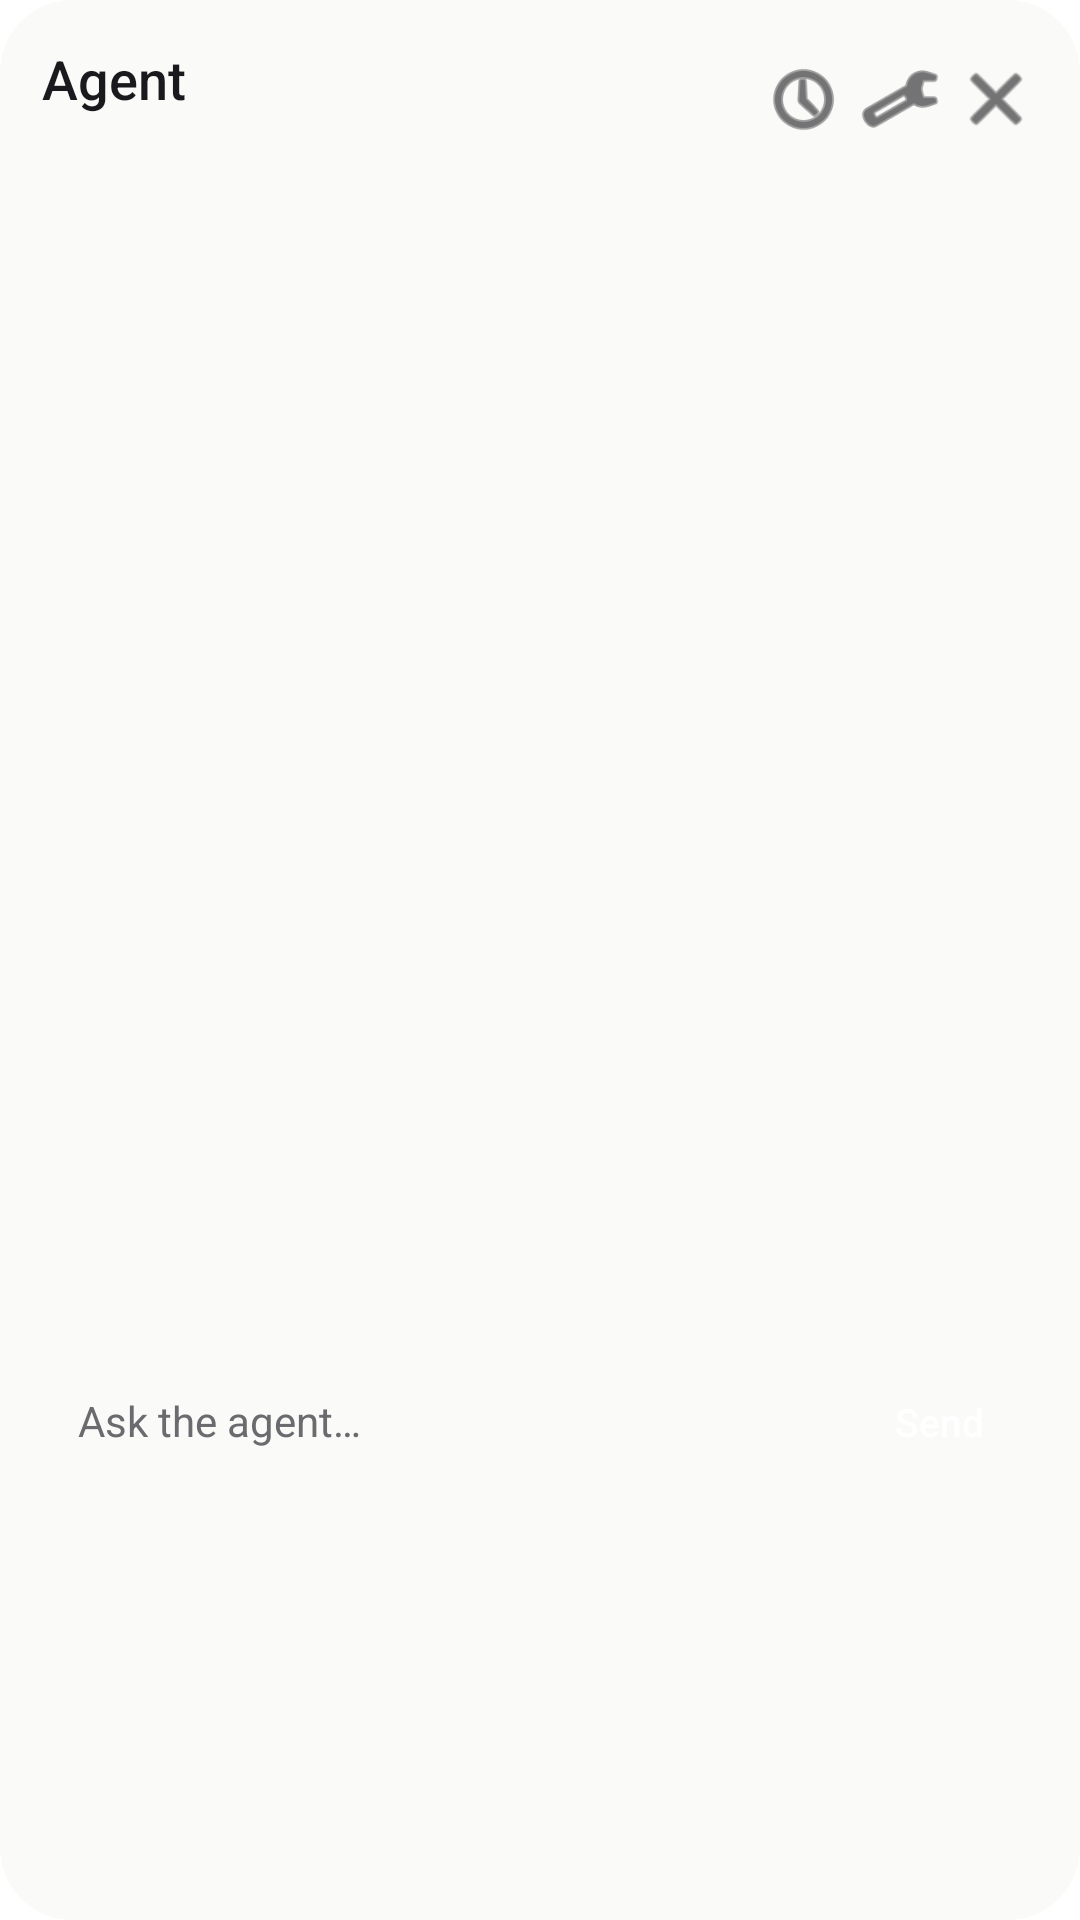

Icons on this 1080 × 1920 Android screen, each with the point to tap as (x=x, y=y):
Close: (x=996, y=99)
Connection settings: (x=900, y=99)
Session history: (x=803, y=99)
